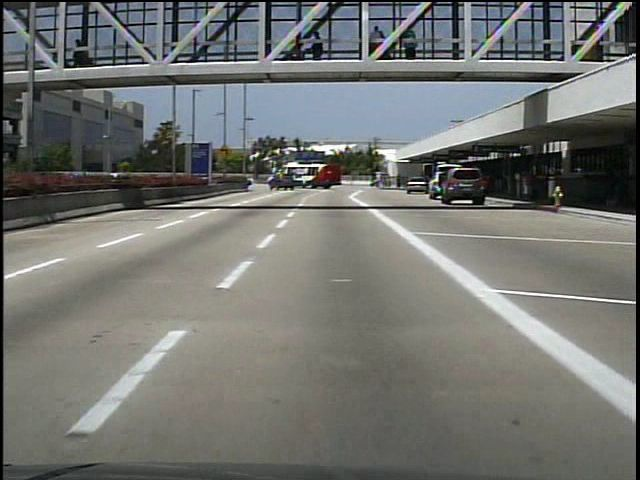person: (517, 161, 539, 203), (305, 28, 329, 65), (72, 35, 95, 72)
